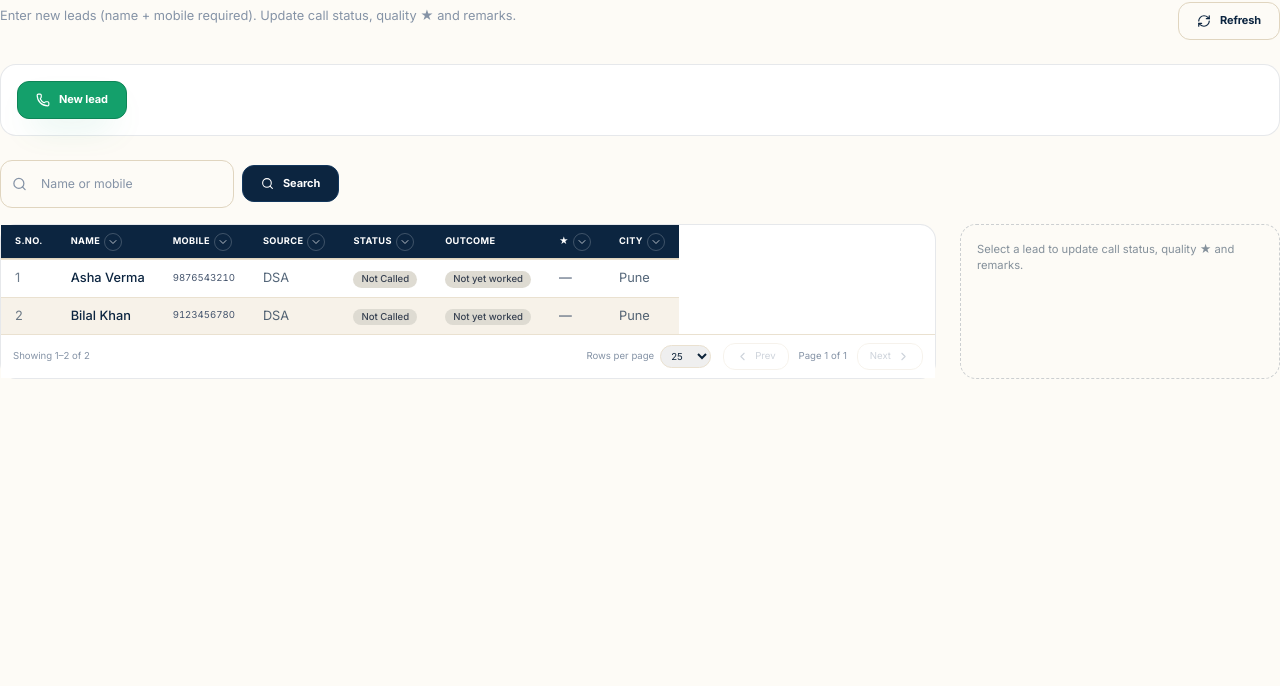
Test: disposition panel › raises nothing when a lead whose Save succeeded is left
Click the text "Asha Verma" at [108, 278], box [57,260,159,297]
(page scrolled)
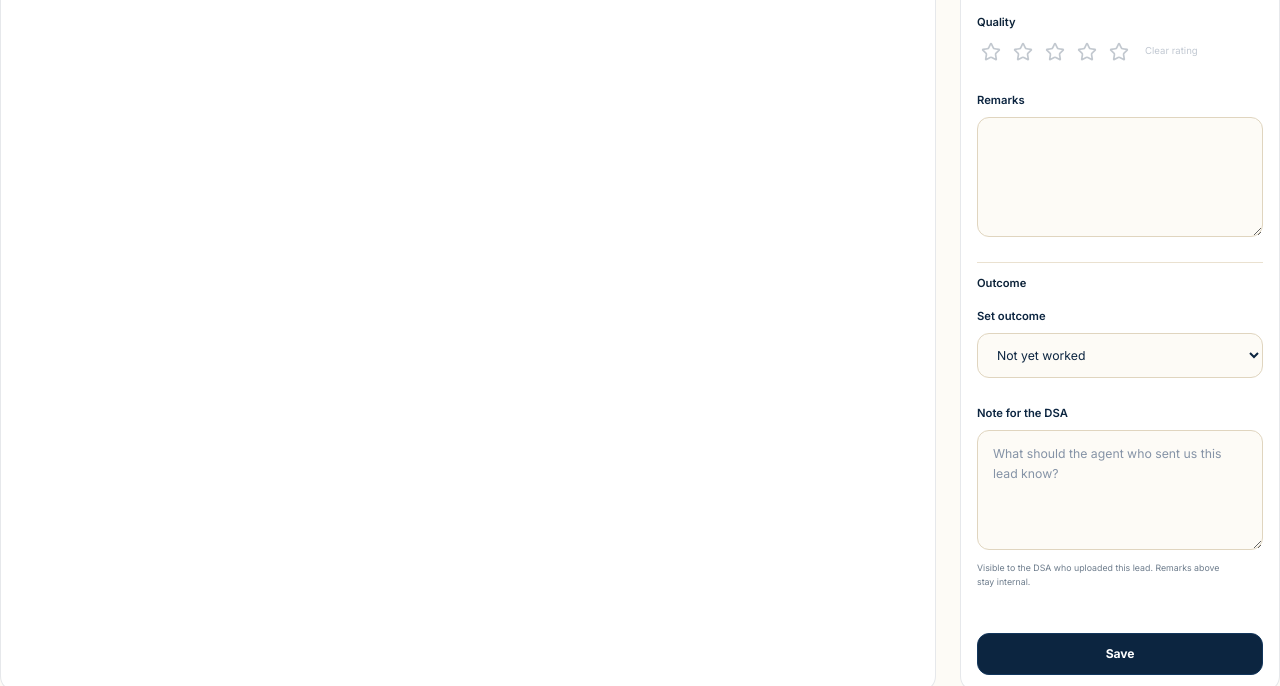
Click the button "Save" at [1120, 654], box [977,633,1263,675]
(page scrolled)
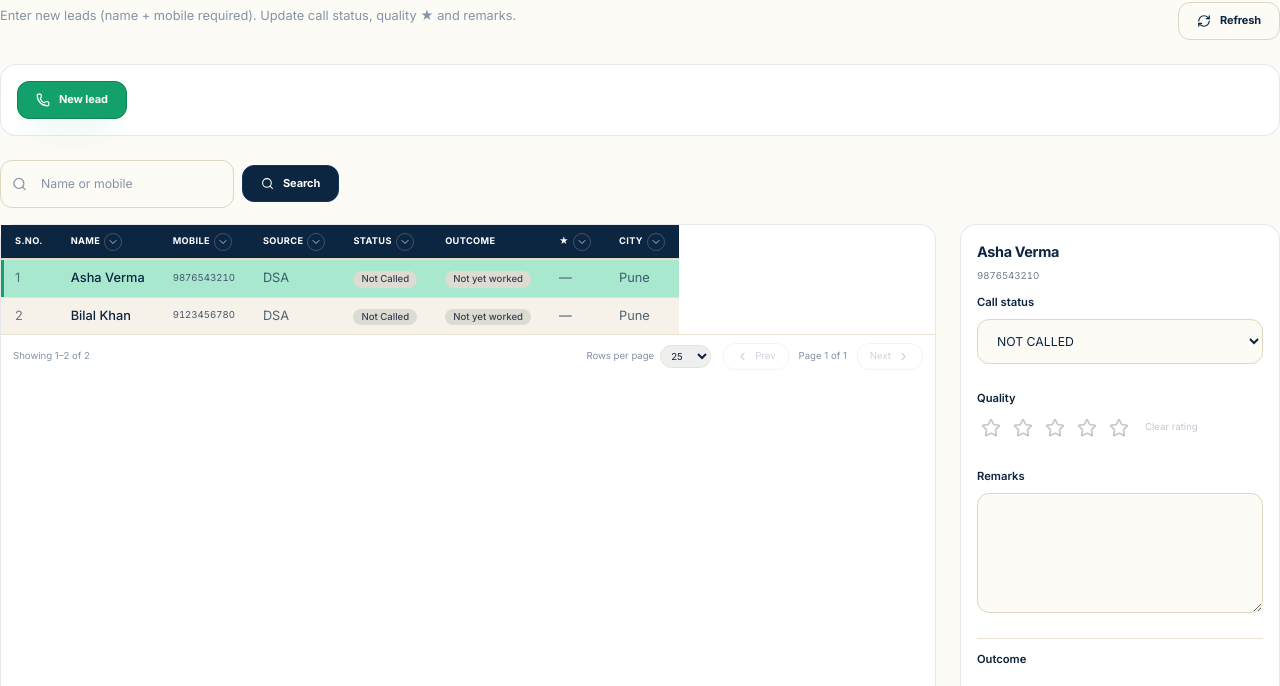
Click the text "Bilal Khan" at [108, 316], box [57,297,159,334]
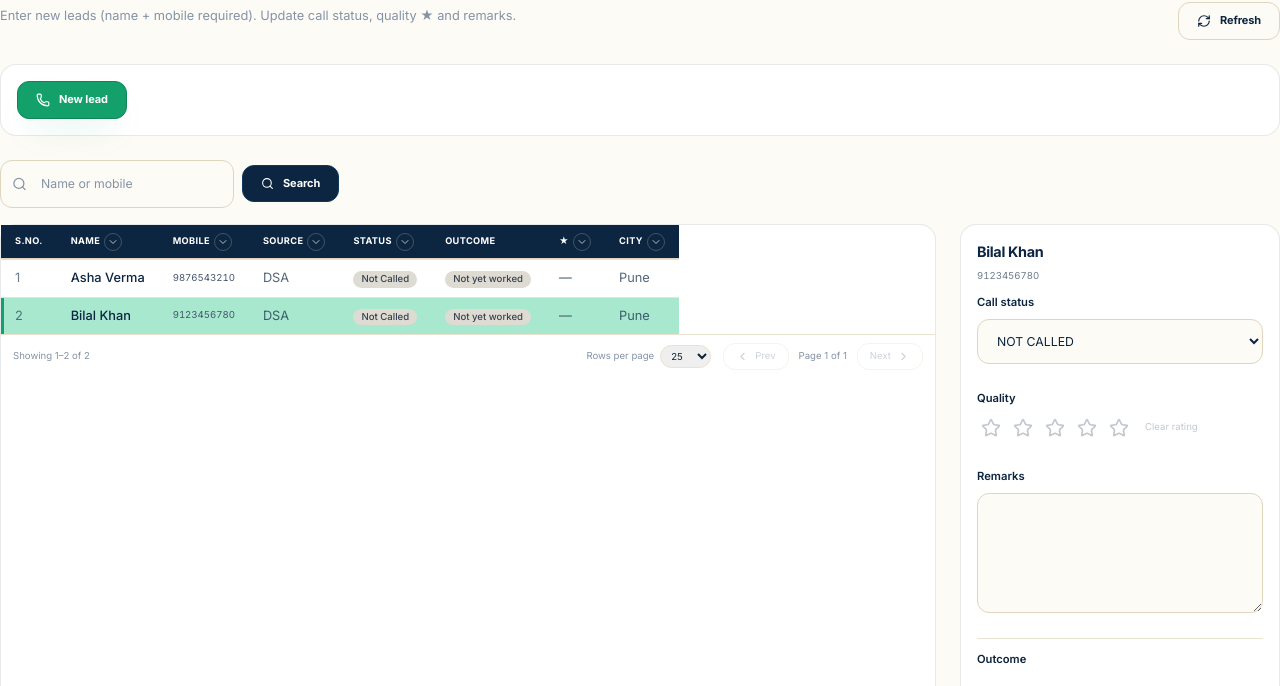
Now the heading "Bilal Khan" is shown, box [977,243,1044,260]
